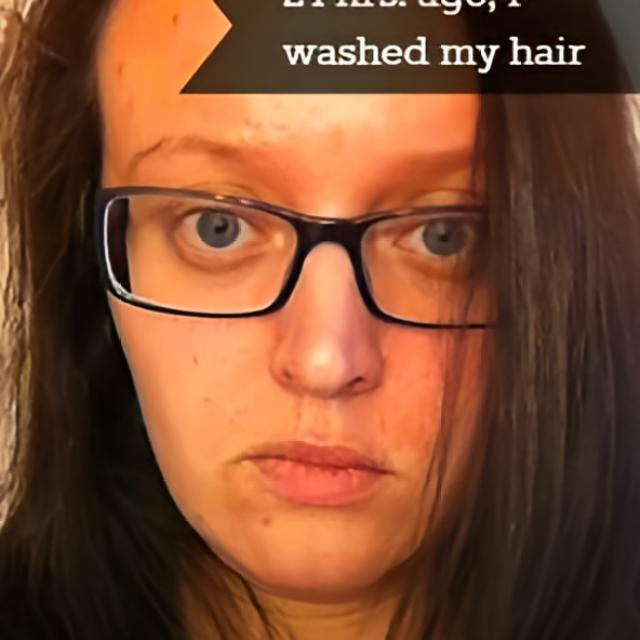neutral: (90, 0, 496, 595)
